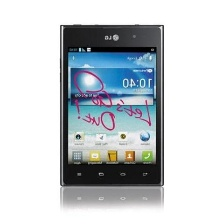phone: (53, 18, 168, 191)
